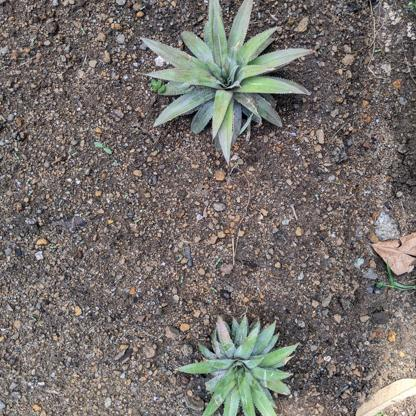pineapple: (136, 1, 316, 163), (173, 314, 299, 416)
